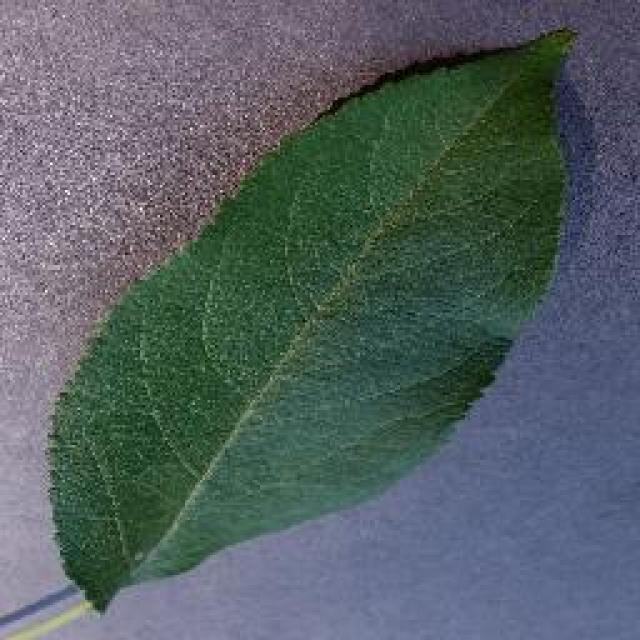apple healthy: (42, 22, 580, 612)
